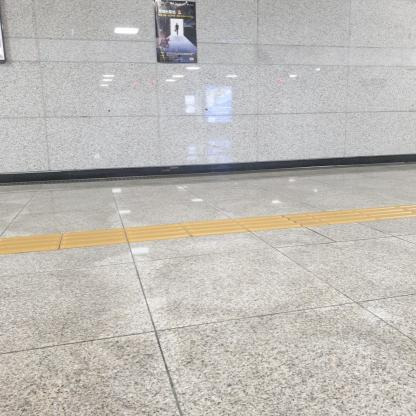go: (59, 228, 128, 249), (0, 233, 63, 255), (124, 223, 191, 243), (180, 219, 250, 237), (232, 215, 304, 232), (304, 210, 380, 225), (351, 206, 416, 220)
